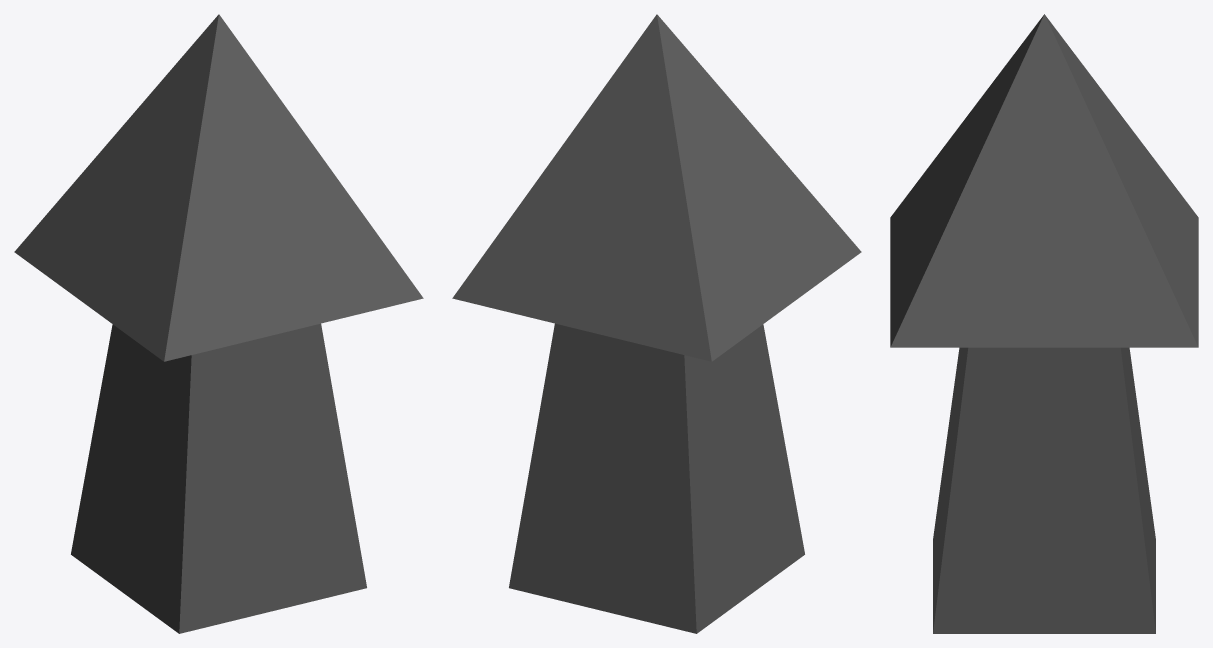
Rendered from arrow.glb.
3 views of the same model, side by side, from view 1: azimuth 30°, elevation 25°; view 2: azimuth 150°, elevation 25°; view 3: azimuth 270°, elevation 25° (orthographic). The views are drawn at different scales.
Parts seen in each view (by area): view 1: Arrow; view 2: Arrow; view 3: Arrow.
Boxes of the visible parts, bbox=[...] form: Arrow: bbox=[14, 14, 423, 633]; Arrow: bbox=[452, 14, 861, 633]; Arrow: bbox=[890, 14, 1198, 633].
Size of what is drawn, in the model's own units: 1.11 by 2.28 by 1.11.
1 material, 1 textured.
